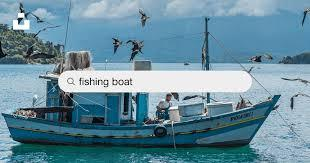fishing boat: (0, 15, 283, 148)
